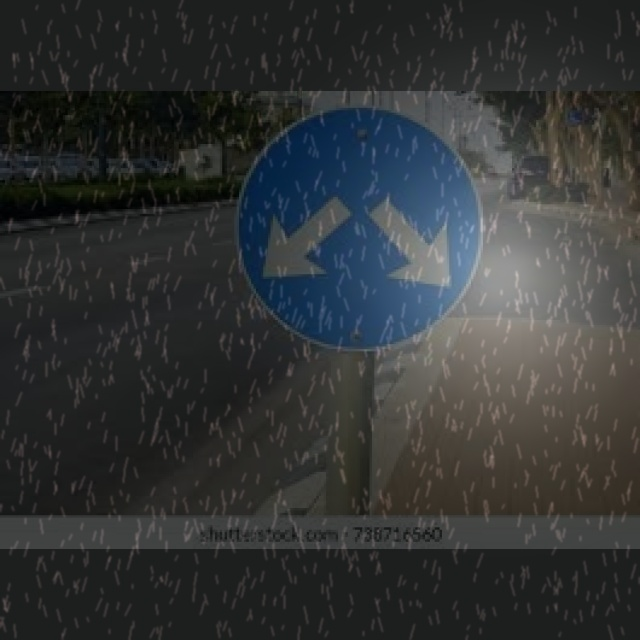Pass_Either_Side: (234, 105, 487, 352)
